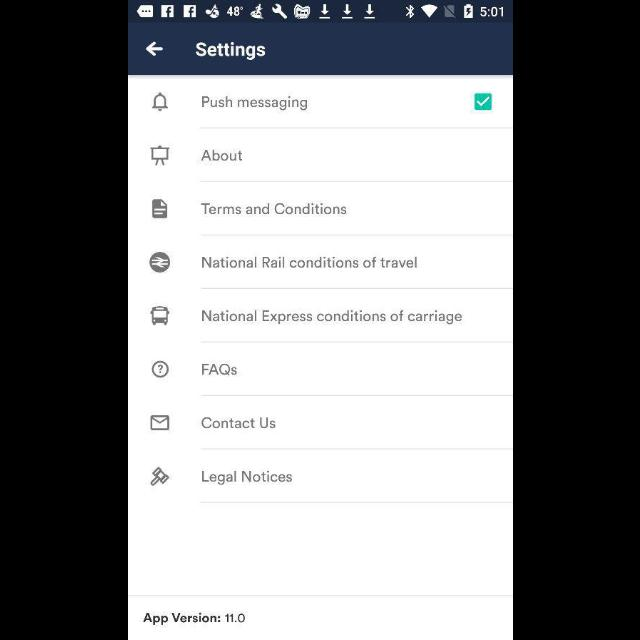checkbox: (473, 92, 491, 111)
icon: (151, 199, 167, 219), (152, 92, 168, 111), (152, 360, 168, 378), (150, 416, 170, 430), (145, 43, 163, 57)
image: (148, 251, 170, 273), (150, 306, 170, 326), (150, 468, 170, 487), (150, 146, 168, 166)
text: (201, 310, 461, 326), (202, 257, 416, 269), (200, 203, 346, 215), (201, 96, 307, 110), (202, 470, 292, 486), (142, 612, 244, 626), (196, 42, 264, 62), (201, 417, 275, 429), (200, 150, 242, 162), (202, 364, 236, 376)
uppertaskbar: (128, 1, 512, 23)
